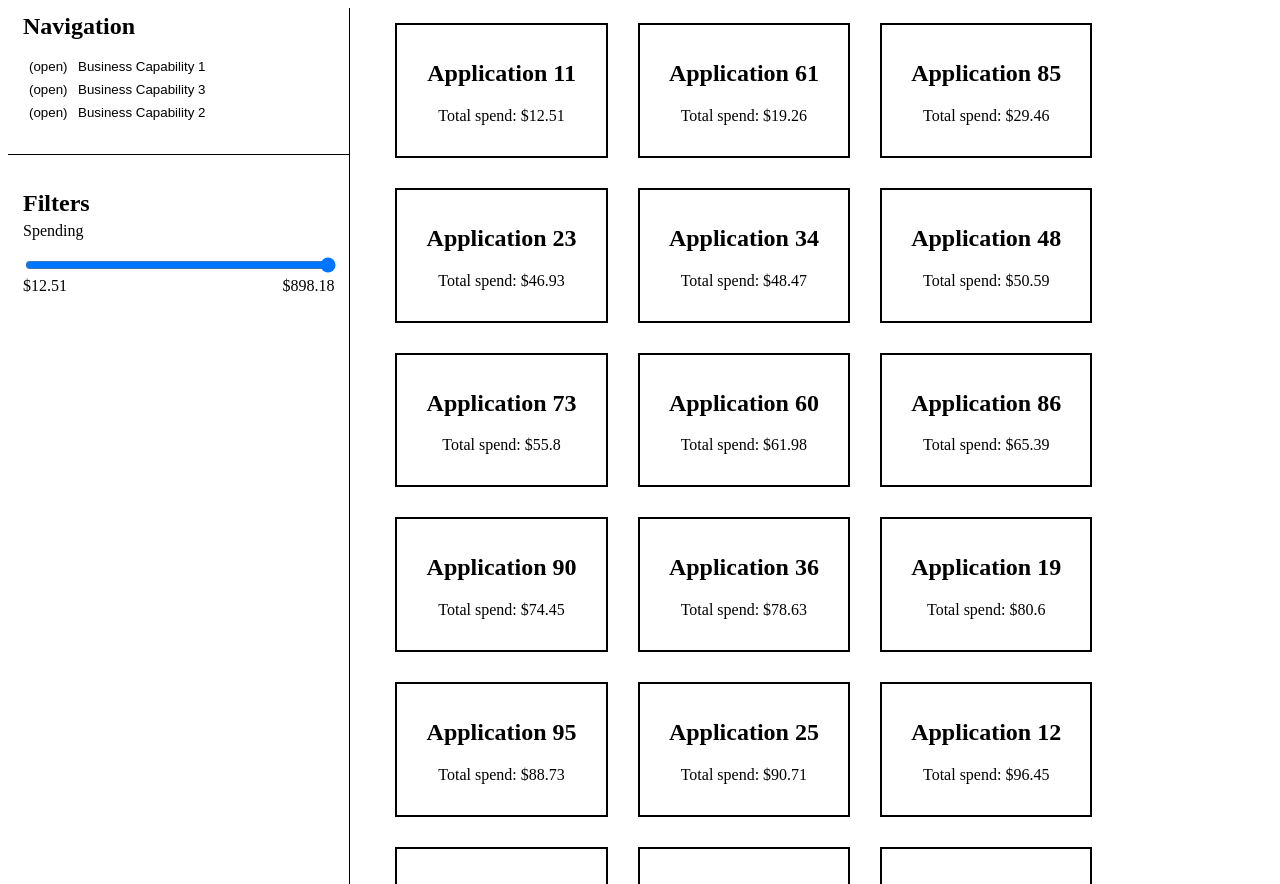
Scenario: App › Filters › should correctly filter applications if spending range value is changed
This screenshot has width=1280, height=884.
Expected: the text "Spending" is shown, [23,222,84,239]
Set the slider with test id "spending-filter-input" to "100". click: (181, 265)
box: [25,257,336,273]
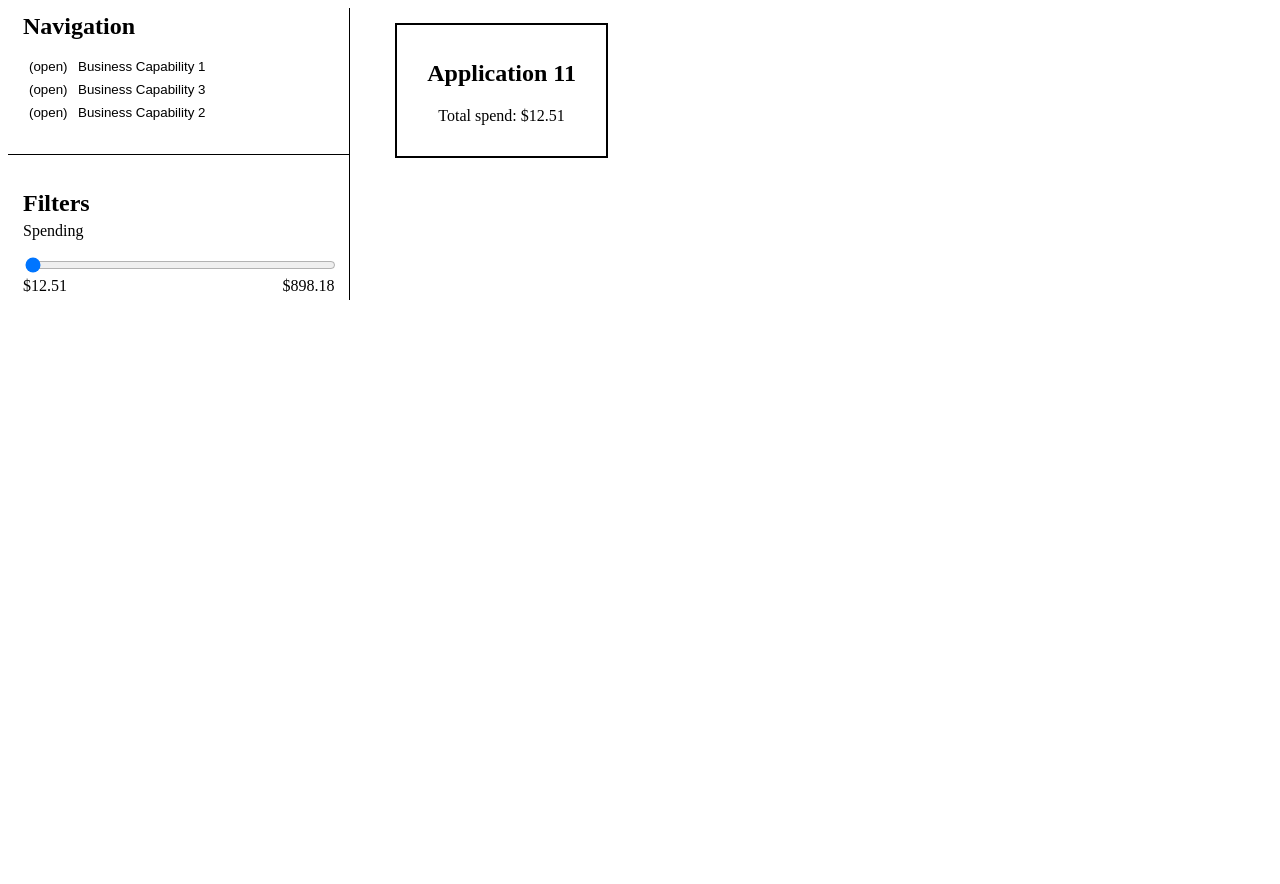
Result: the number of elements with test id "application-item" is 1 at [395,23,608,158]
